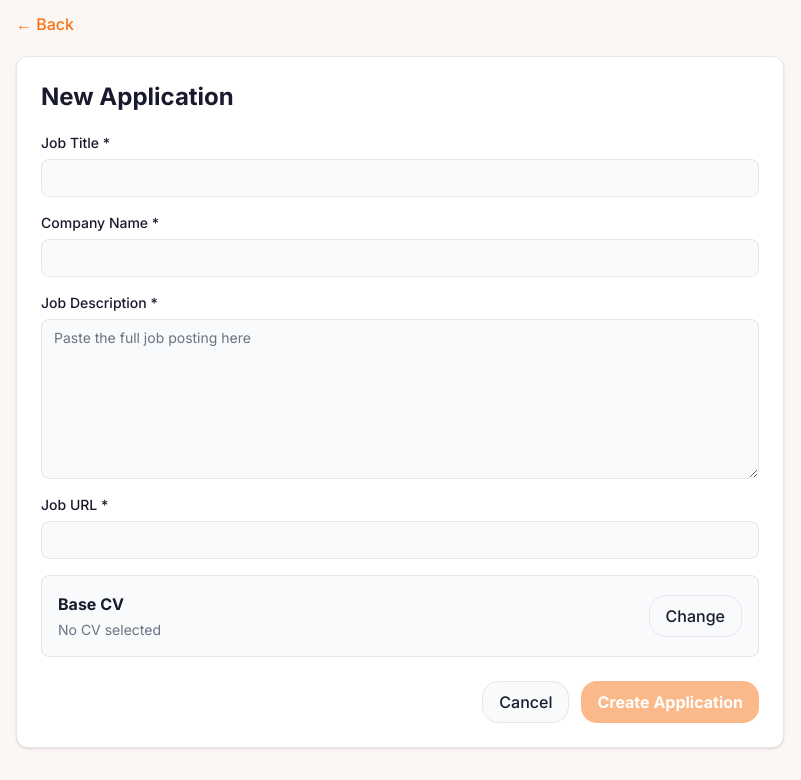
Test: FE-UI-010 — submission states › renders backend URL validation errors inline next to the URL input
The width and height of the screenshot is (801, 780).
Step 1. Type "Software Engineer" into the field labelled "Job Title *" → (400, 178), box 41,159 -> 759,197
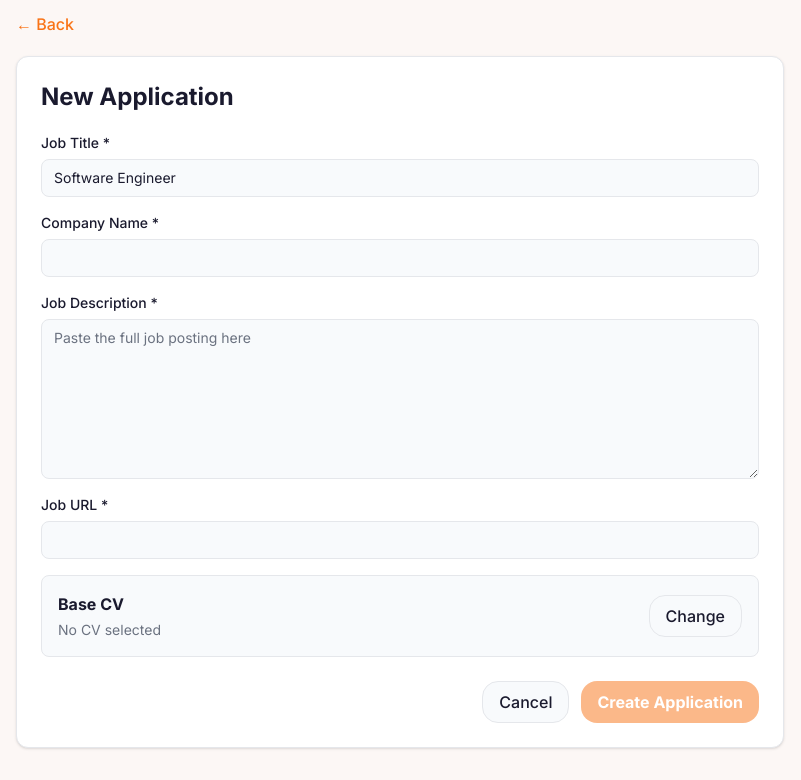
Step 2. Type "Acme Corp" into the field labelled "Company Name *" → (400, 258), box 41,239 -> 759,277
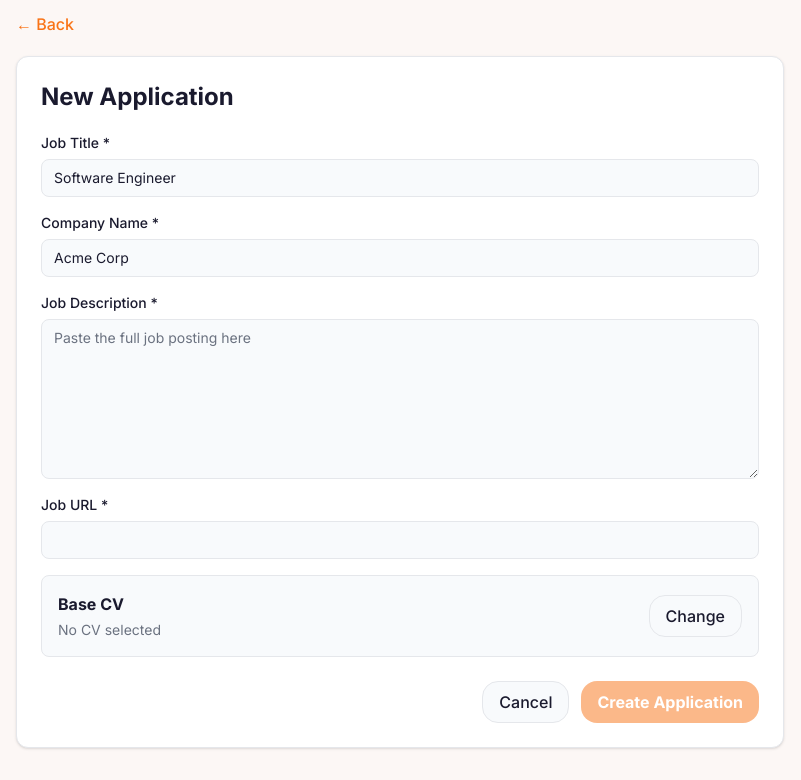
Step 3. Type "Build resilient customer-facing frontend systems." into the text box labelled "Job Description *" → (400, 399), box 41,319 -> 759,479
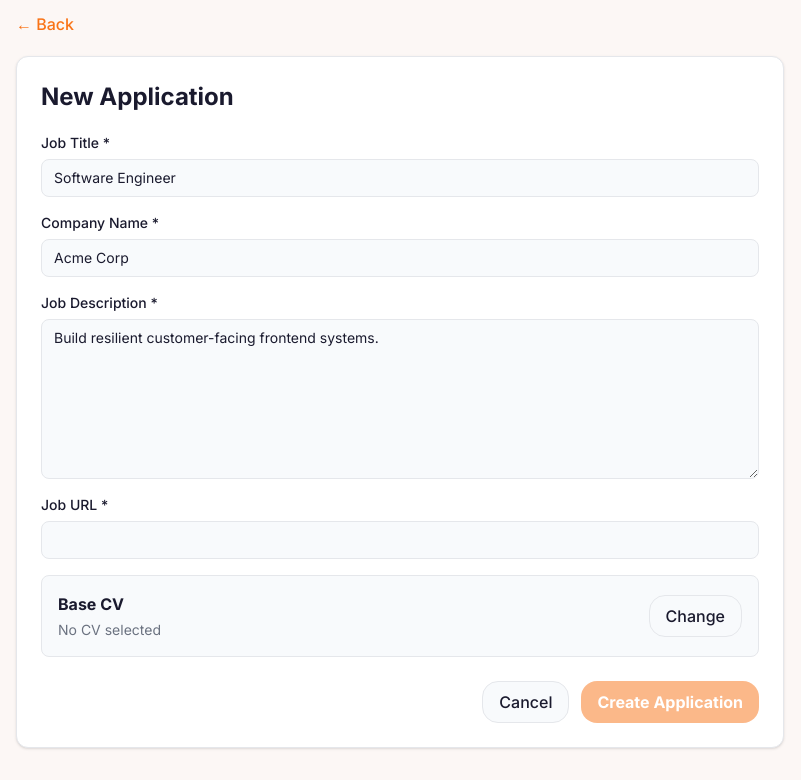
Step 4. Type "https://acme.example/jobs/1" into the field labelled "Job URL *" → (400, 540), box 41,521 -> 759,559
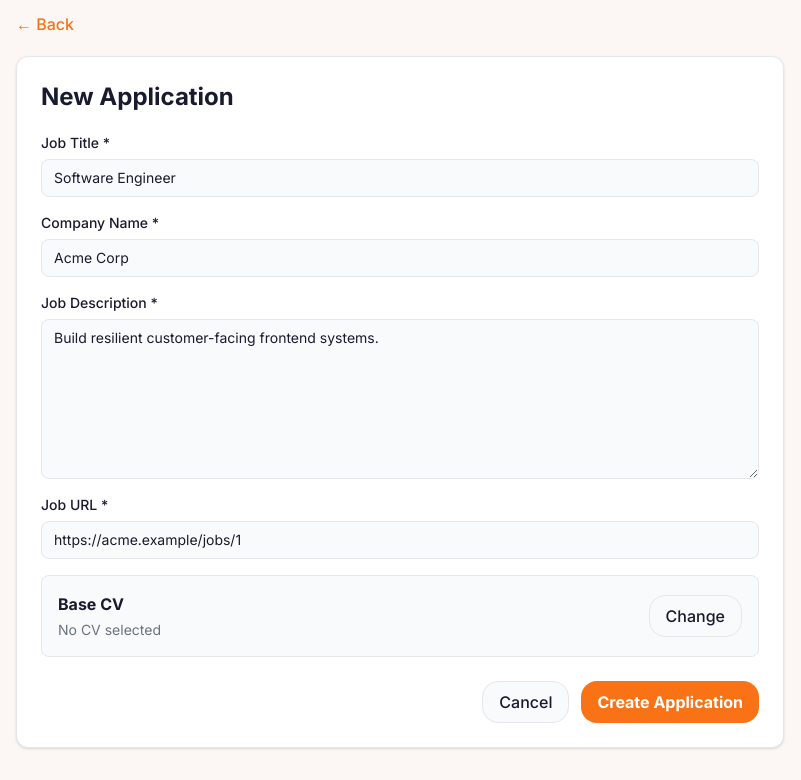
Step 5. Click the button "Create Application" → click(670, 702), box 581,681 -> 759,723
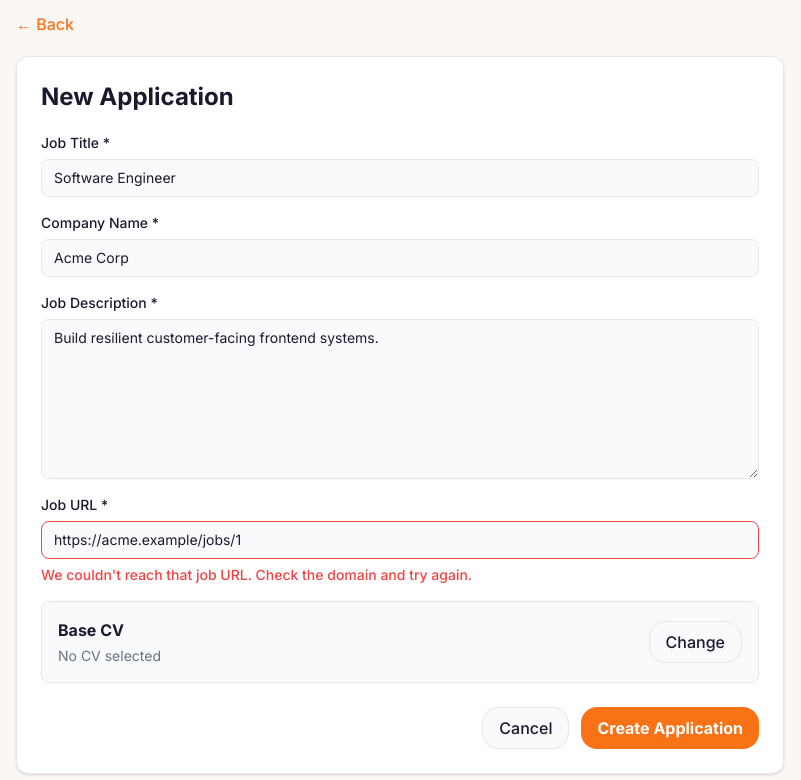
Now the text "We couldn't reach that job URL. Check the domain and try again." is shown, box 41,566 -> 472,583
